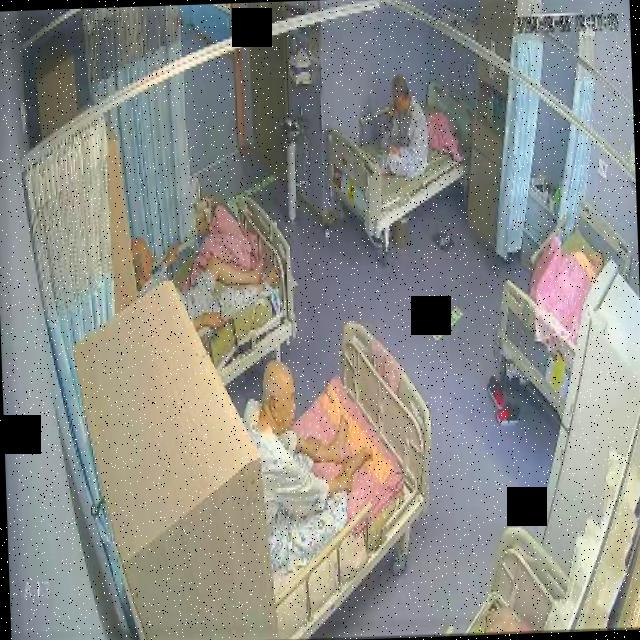bed: (232, 323, 438, 640), (490, 199, 636, 419), (157, 202, 296, 388), (328, 77, 474, 240)
patient: (238, 356, 376, 570), (129, 228, 282, 344), (376, 74, 430, 183)
sit: (237, 355, 377, 571), (129, 228, 283, 342), (376, 75, 431, 182)
